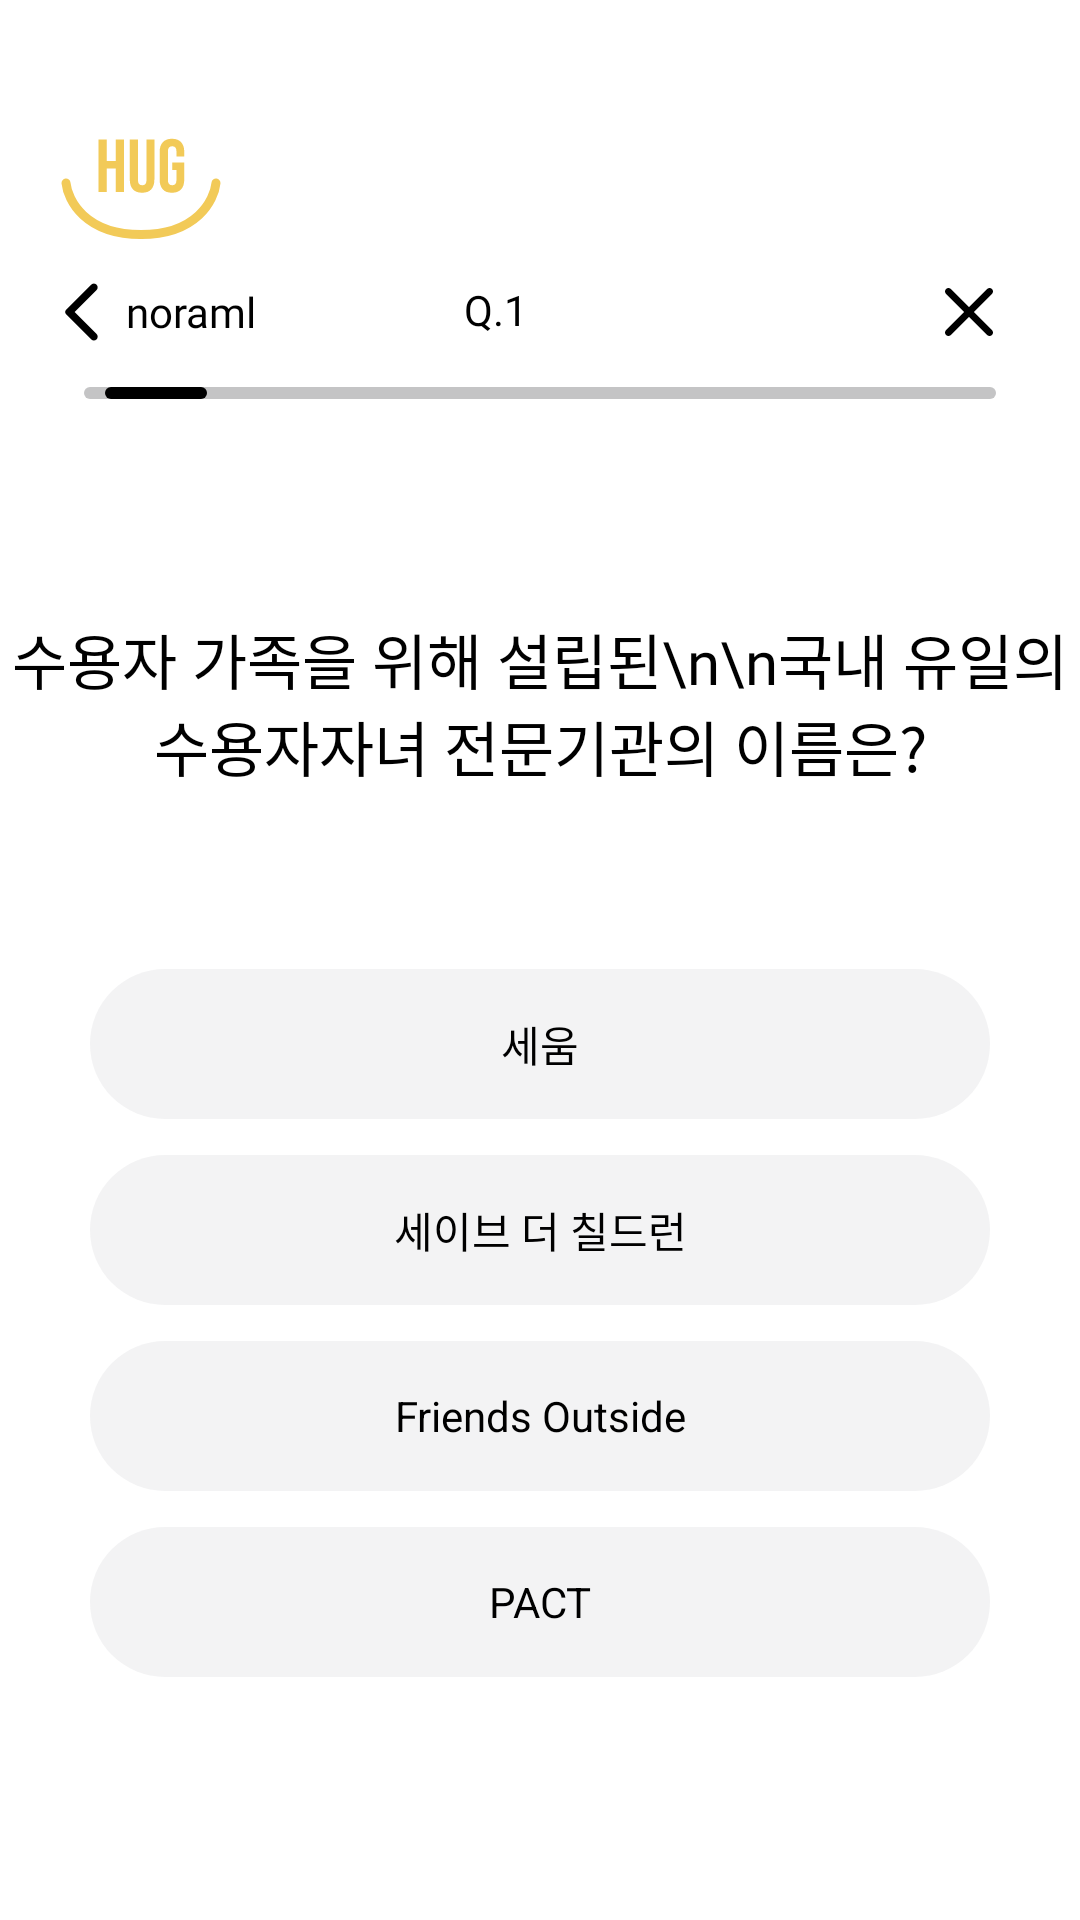

Icons on this 1080w x 1920h Android screen, each with the point to tap as [x,y]:
home quiz out: [969,312]
